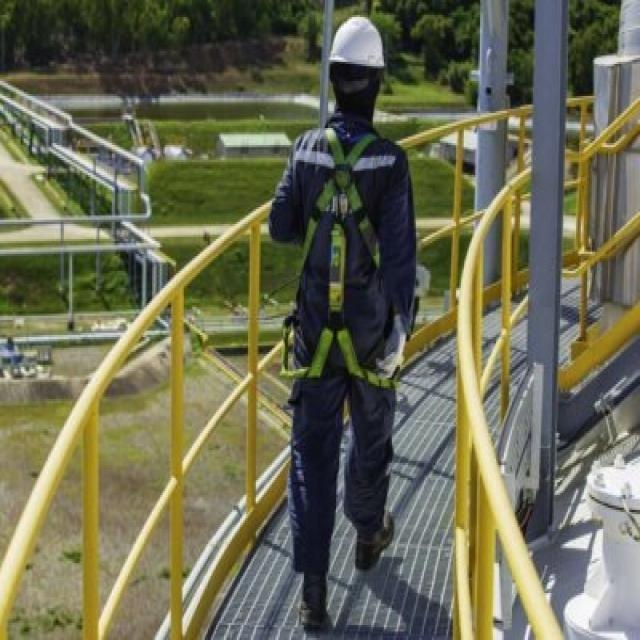Arnes_seguridad: (281, 122, 404, 407)
